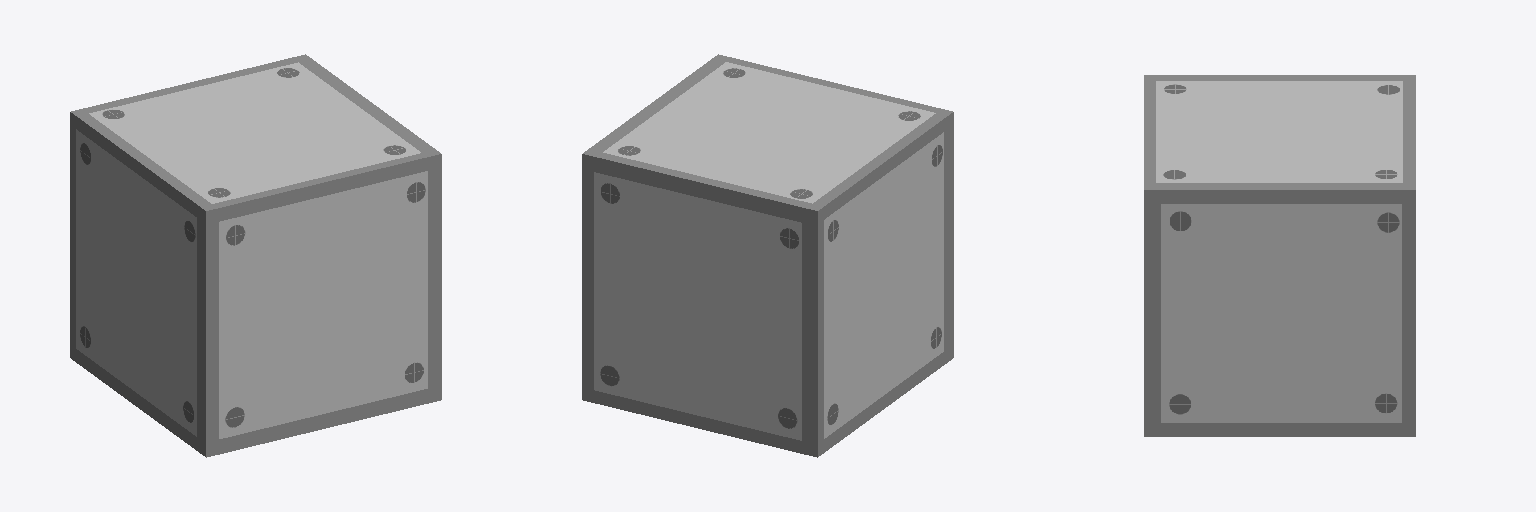
3 renders of one model, left to right at view 1: azimuth 30°, elevation 25°; view 2: azimuth 150°, elevation 25°; view 3: azimuth 270°, elevation 25°, orthographic.
Parts seen in each view (by area): view 1: Cube; view 2: Cube; view 3: Cube.
Boxes of the visible parts, box(x1,y1,x2,y2) form: Cube: box(70, 54, 441, 457); Cube: box(582, 54, 953, 457); Cube: box(1144, 75, 1415, 436).
Size of the model in its own units: 1 by 1 by 1.
1 materials, 1 textured.